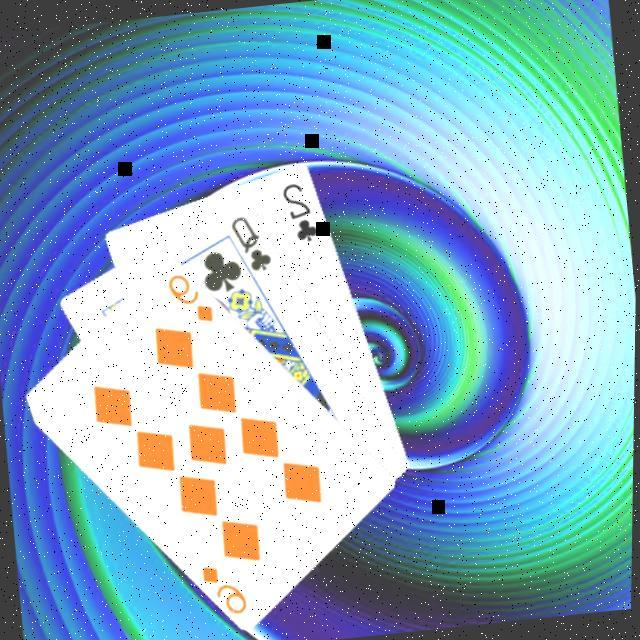2C: (278, 173, 324, 244)
9D: (198, 555, 254, 618), (163, 264, 219, 326)
QC: (226, 207, 278, 274)
